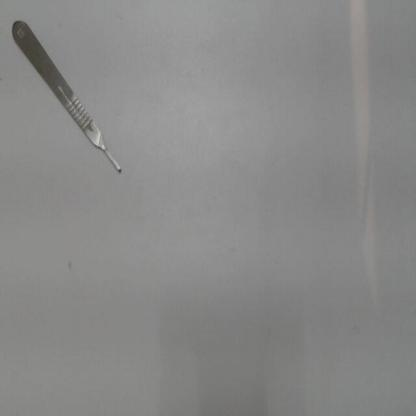No.3 BP Handle: (6, 6, 131, 182)
